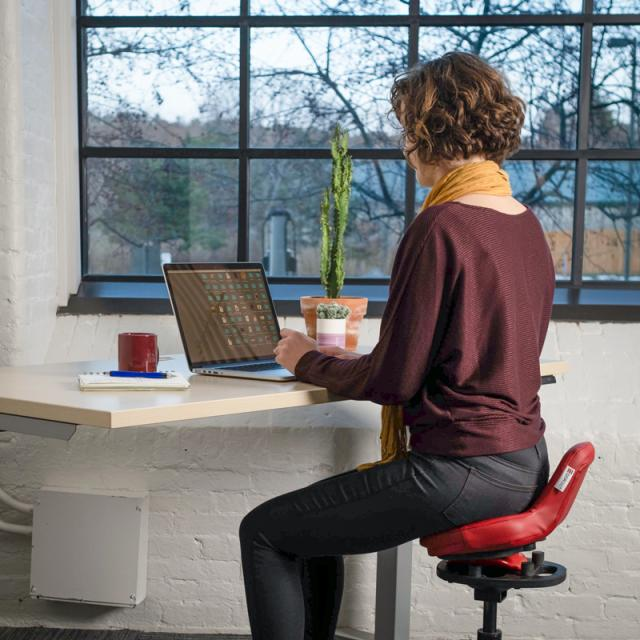nonfall: (244, 49, 552, 555)
